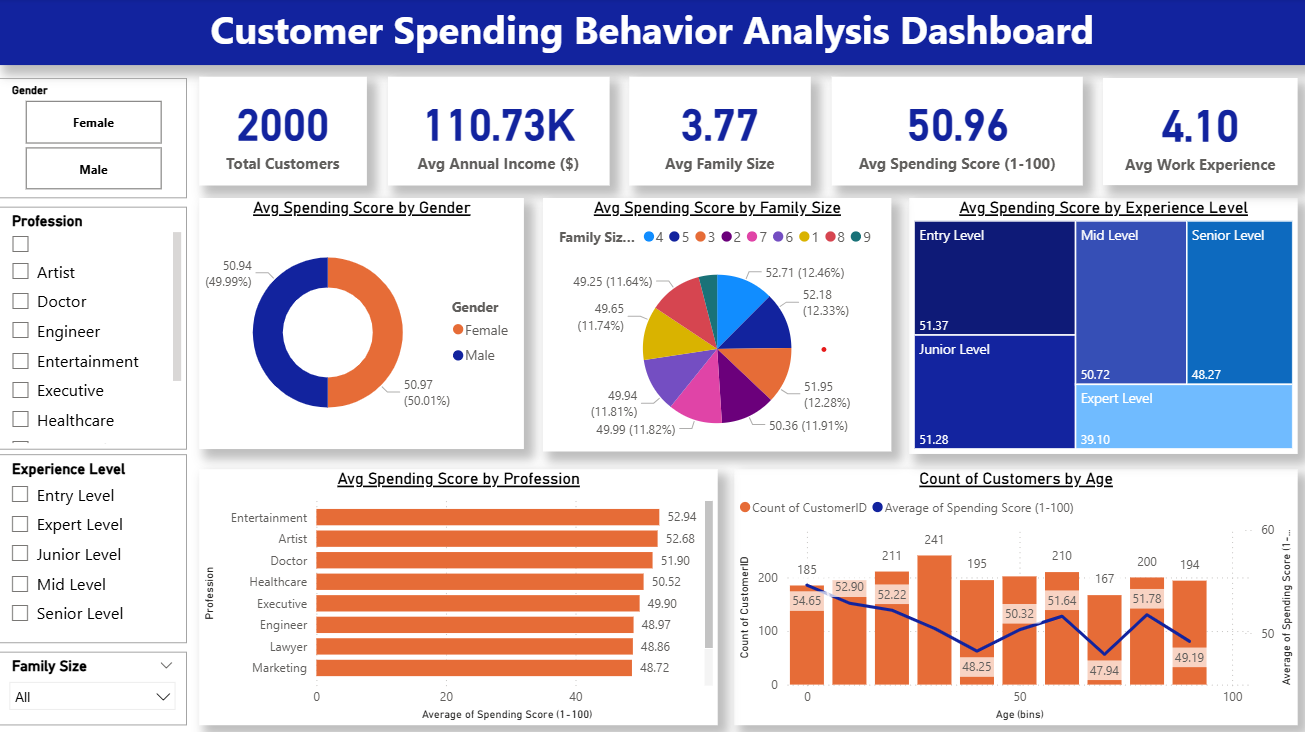

The dashboard page shown, as its layout file describes it:
{"tool":"powerbi","page":{"name":"Page 1","canvas":[1280,720],"ordinal":0},"visuals":[{"type":"textbox","box":[0,0,1280.3,65.9],"z":0},{"type":"card","fields":{"Values":["CountNonNull(Customers.CustomerID)"]},"box":[196.9,77,163.9,106.4],"z":1000},{"type":"card","fields":{"Values":["Avg(Customers.Annual Income ($))"]},"box":[381.5,77,216.4,106.4],"z":2000},{"type":"card","fields":{"Values":["Avg(Customers.Family Size)"]},"box":[617.5,77,177.3,106.4],"z":3000},{"type":"card","fields":{"Values":["Avg(Customers.Spending Score (1-100))"]},"box":[815.6,77,245.8,106.4],"z":4000},{"type":"donutChart","title":"Avg Spending Score by Gender","fields":{"Category":["Customers.Gender"],"Y":["Avg(Customers.Spending Score (1-100))"]},"box":[196.9,195.7,317.9,245.8],"z":5000},{"type":"lineStackedColumnComboChart","title":"Count of Customers by Age","fields":{"Y":["CountNonNull(Customers.CustomerID)"],"Y2":["Avg(Customers.Spending Score (1-100))"],"Category":["Customers.Age (bins)"]},"box":[720.2,461,551.5,250.7],"z":6000},{"type":"treemap","title":"Avg Spending Score by Experience Level","fields":{"Group":["Customers.Experience Level"],"Values":["Avg(Customers.Spending Score (1-100))"]},"box":[891.4,195.7,380.3,250.7],"z":7000},{"type":"slicer","fields":{"Values":["Customers.Profession"]},"box":[0,204.2,184.6,237.2],"z":8000},{"type":"slicer","fields":{"Values":["Customers.Experience Level"]},"box":[0,446.3,184.6,184.6],"z":9000},{"type":"slicer","fields":{"Values":["Customers.Family Size"]},"box":[0,639.5,184.6,72.1],"z":10000},{"type":"slicer","fields":{"Values":["Customers.Gender"]},"box":[0,78.3,184.6,117.4],"z":11000},{"type":"card","fields":{"Values":["Avg(Customers.Work Experience)"]},"box":[1081,78.3,190.8,105.2],"z":12000},{"type":"pieChart","title":"Avg Spending Score by Family Size","fields":{"Category":["Customers.Family Size (bins)"],"Y":["Avg(Customers.Spending Score (1-100))"]},"box":[533.2,195.7,341.2,248.2],"z":13000},{"type":"barChart","title":"Avg Spending Score by Profession","fields":{"Category":["Customers.Profession"],"Y":["Avg(Customers.Spending Score (1-100))"]},"box":[196.9,461,507.5,250.7],"z":14000}]}

Visuals, with their boxes in screenshot pixels (x1, y1, x2, y2), scaled from the page's 1280x720 canvas onto the 1305x732 screenshot:
textbox: <box>0,0,1304,67</box>
card - CountNonNull(Customers.CustomerID): <box>201,78,368,186</box>
card - Avg(Customers.Annual Income ($)): <box>389,78,610,186</box>
card - Avg(Customers.Family Size): <box>630,78,810,186</box>
card - Avg(Customers.Spending Score (1-100)): <box>832,78,1082,186</box>
"Avg Spending Score by Gender" donutChart: <box>201,199,525,449</box>
"Count of Customers by Age" lineStackedColumnComboChart: <box>734,469,1297,724</box>
"Avg Spending Score by Experience Level" treemap: <box>909,199,1297,454</box>
slicer - Customers.Profession: <box>0,208,188,449</box>
slicer - Customers.Experience Level: <box>0,454,188,641</box>
slicer - Customers.Family Size: <box>0,650,188,723</box>
slicer - Customers.Gender: <box>0,80,188,199</box>
card - Avg(Customers.Work Experience): <box>1102,80,1297,187</box>
"Avg Spending Score by Family Size" pieChart: <box>544,199,891,451</box>
"Avg Spending Score by Profession" barChart: <box>201,469,718,724</box>
